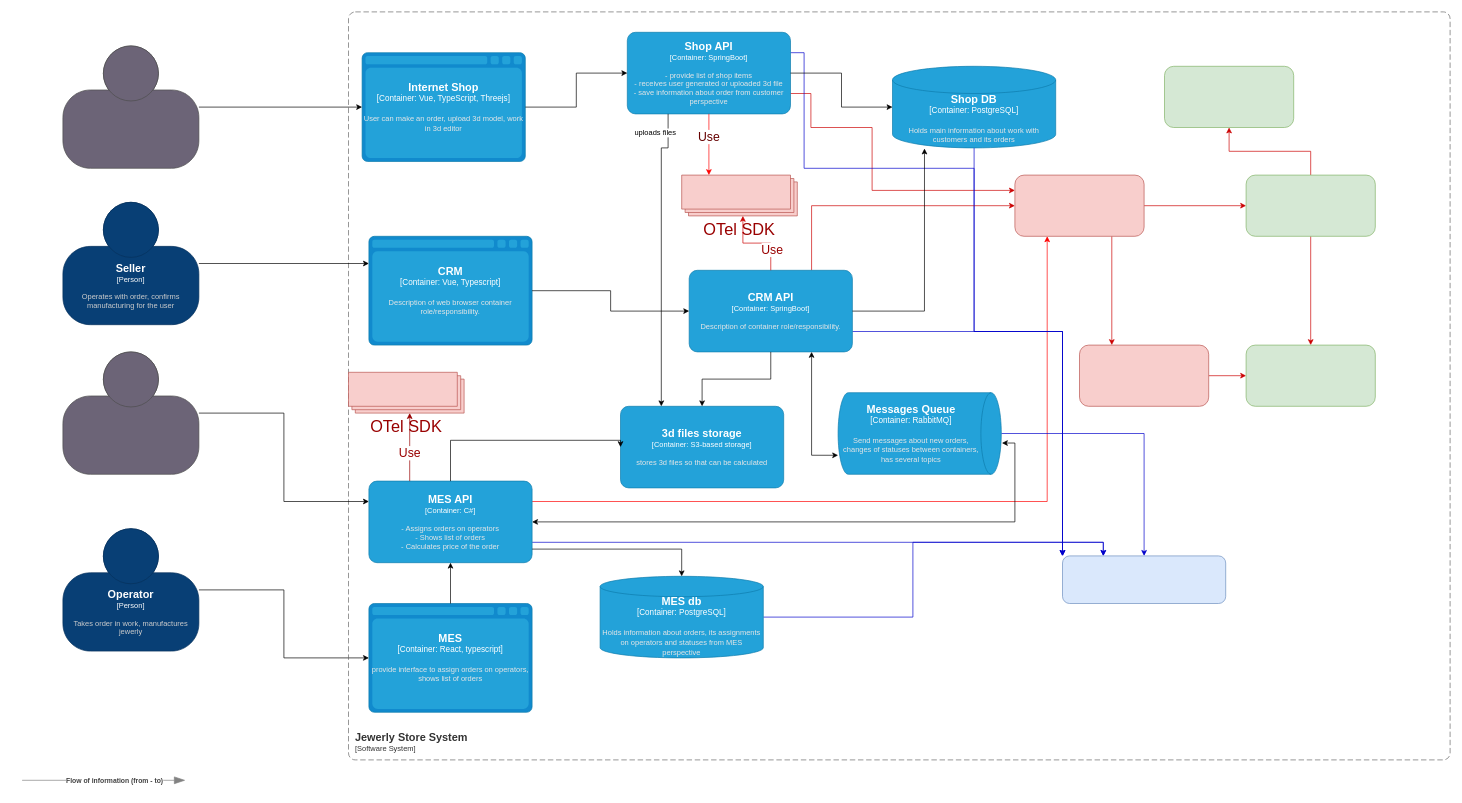
This 1462x803 diagram has some shape labels left out. The shapes that lost their labels are listed below. From the top down, each one's centre as x and y in pixels, then its label:
the point at 130,106: Customer [Person] Description of external person.
the point at 1229,97: AlertManager
the point at 1079,205: OTel Collector
the point at 1310,205: Prometheus
the point at 1144,375: Jager
the point at 1310,375: Grafana
the point at 130,412: API user [Person] Description of external person.
the point at 1144,579: Graylog
